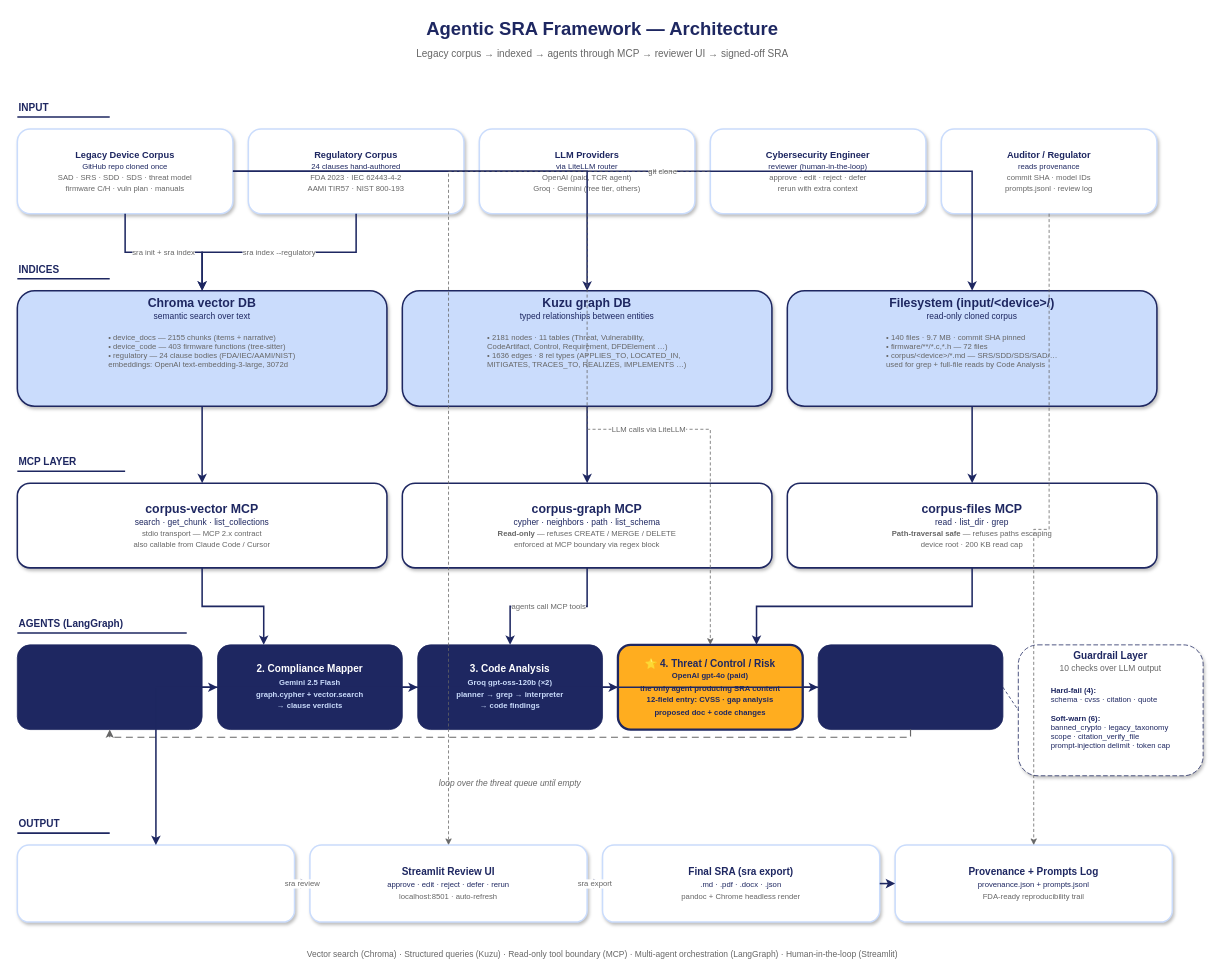
The diagram is 1221 pixels wide and 976 high, and some of its shapes have lost their labels. The shapes that lost their labels are listed below. From the top down, each one's centre as x and y in pixels, then its label:
(109,687): 1. Ingestion deterministic Cypher no LLM → threat queue
(910,687): 5. Report Generator deterministic upsert by threat_id → draft.md + draft.json
(156,884): Draft SRA output/<device>_sra_draft.{md,json} written incrementally · crash-safe
